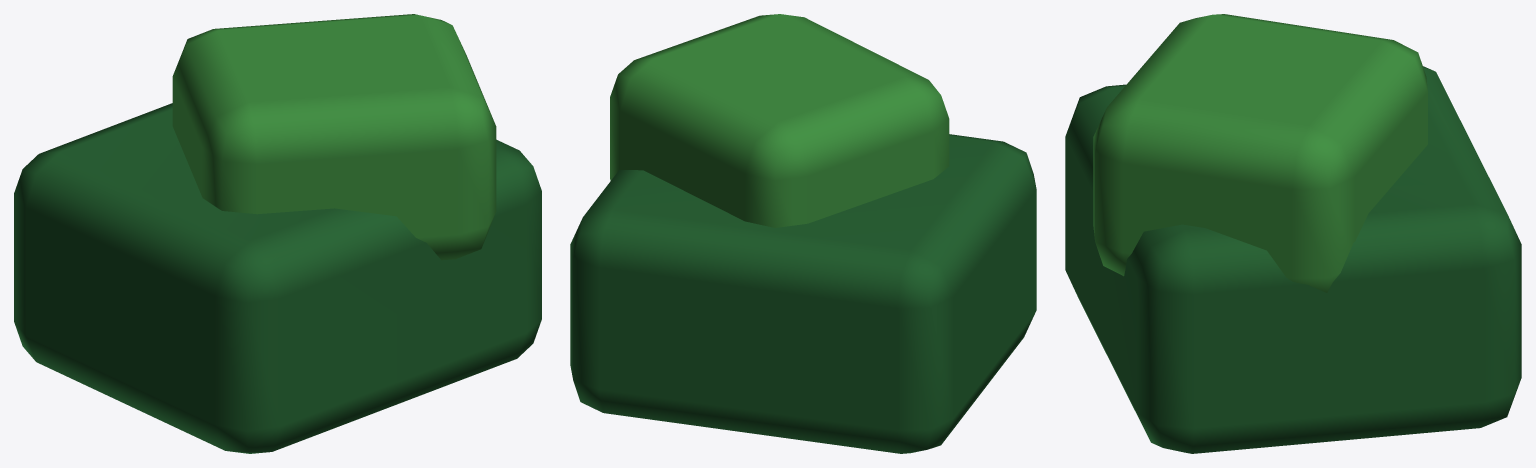
File: Nature__bush.glb
3 renders of one model, left to right at view 1: azimuth 30°, elevation 25°; view 2: azimuth 150°, elevation 25°; view 3: azimuth 270°, elevation 25°, orthographic. The views are drawn at different scales.
Visible parts, largest first — view 1: bush_mesh; view 2: bush_mesh; view 3: bush_mesh.
Boxes of the visible parts, left/top/right/bottom form: bush_mesh: left=14, top=14, right=541, bottom=453; bush_mesh: left=570, top=14, right=1036, bottom=453; bush_mesh: left=1065, top=14, right=1521, bottom=453.
Bounding box in the file's own units: 0.603 × 0.43 × 0.5568.
